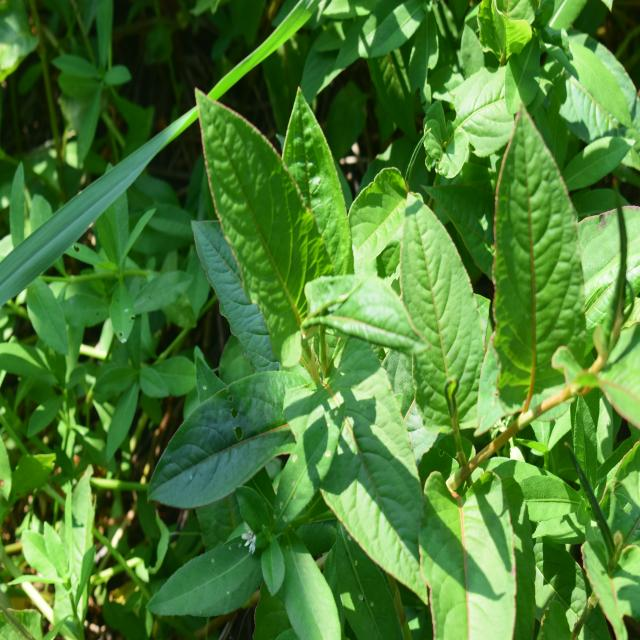Chinese_knotweed: (178, 81, 418, 562), (394, 103, 622, 444)
